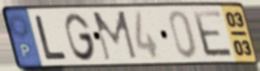0: (167, 8, 199, 61)
4: (135, 9, 163, 62)
E: (190, 9, 236, 59)
G: (63, 11, 98, 63)
L: (33, 14, 69, 61)
M: (90, 9, 139, 63)
